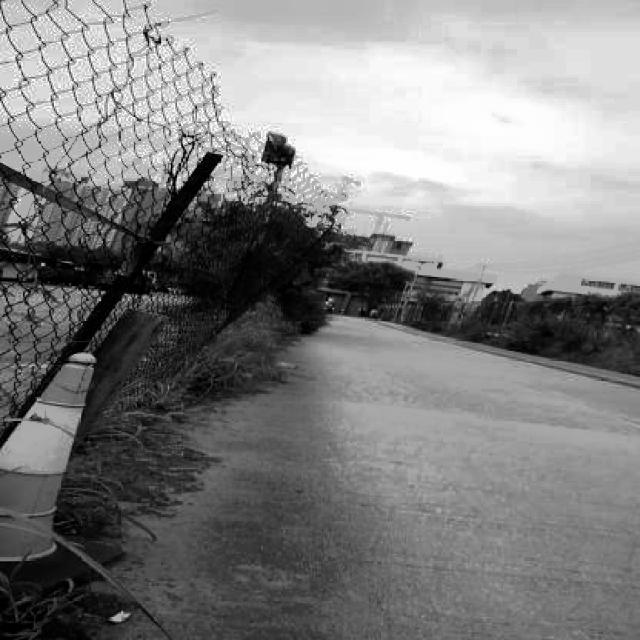anomaly-fence: (0, 0, 259, 430)
